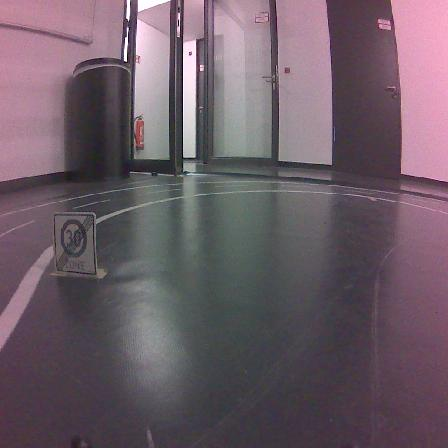30_ZONE_END: (53, 212, 98, 276)
